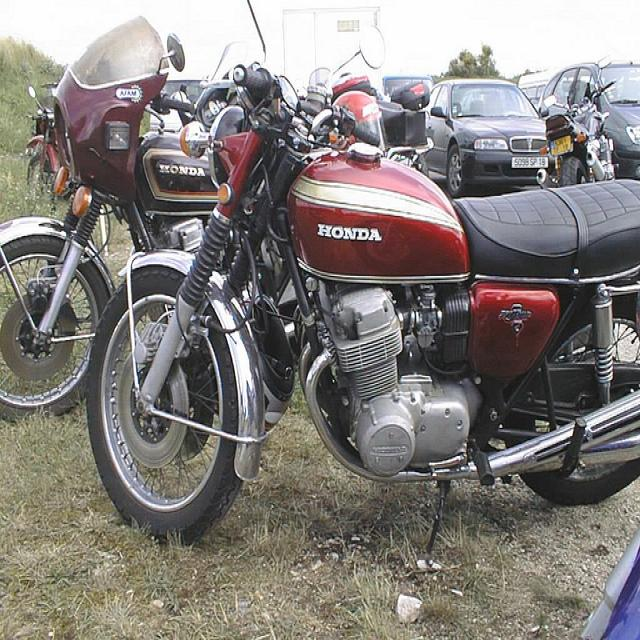motor: (86, 63, 640, 572), (2, 18, 239, 424), (537, 56, 621, 191)
